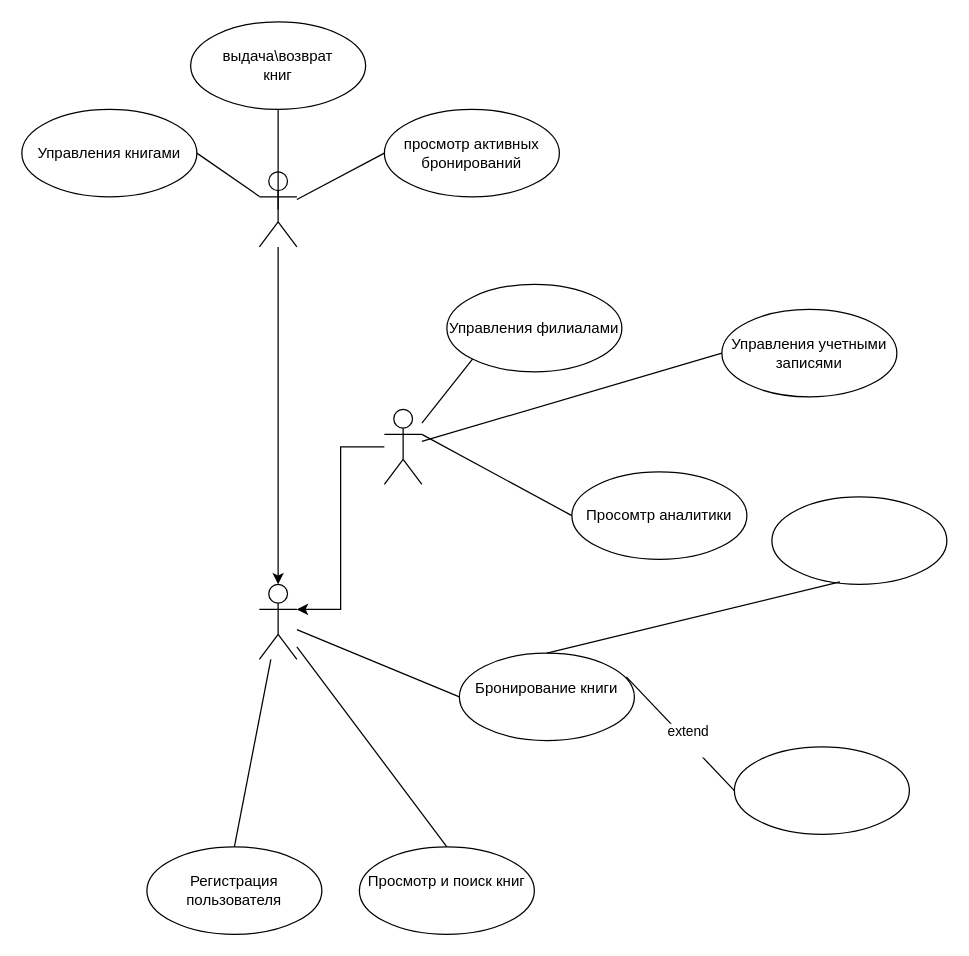
This 969x956 diagram has some shape labels left out. Each missing label, with the box of its shape:
Администратор: (383, 408, 422, 484)
Библиотекарь: (258, 171, 297, 247)
Отмена бронирования: (733, 746, 909, 834)
Просмотр истории бронирования: (771, 496, 947, 584)
Читатель: (258, 583, 297, 659)
